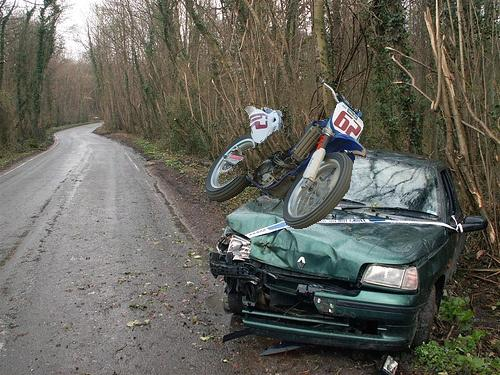tampered: (206, 77, 366, 229)
